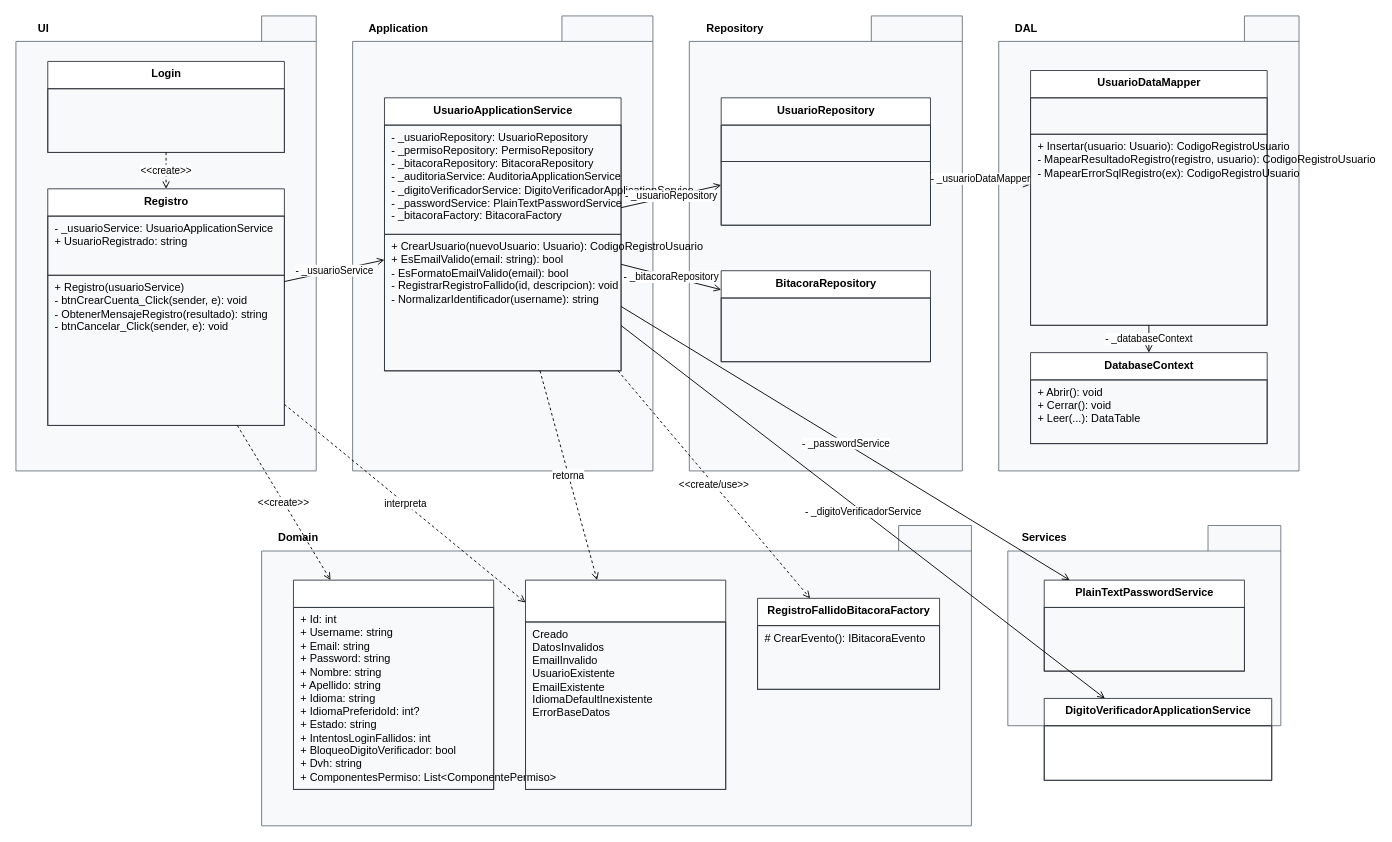
This 1392x842 diagram has some shape labels left out. The box of each missing label's shape, as (x1, y1, x2, y2) in pixels:
+ Crear(usuario: Usuario): CodigoRegistroUsuario: (720, 161, 930, 225)
+ Hash(password): string: (1043, 607, 1244, 671)
+ RecalcularUsuarios(): bool + RecalcularUsuarioYDvv(idUsuario): bool: (1043, 725, 1272, 780)
+ Registrar(evento: IBitacoraEvento): bool: (720, 297, 930, 362)
- _databaseContext: DatabaseContext: (1030, 97, 1267, 134)
- _usuarioDataMapper: UsuarioDataMapper: (720, 124, 930, 162)
- btnRegistrar_Click(sender, e): void: (47, 88, 284, 152)
<<enumeration>> CodigoRegistroUsuario: (525, 579, 726, 789)
Usuario: (293, 579, 494, 789)
